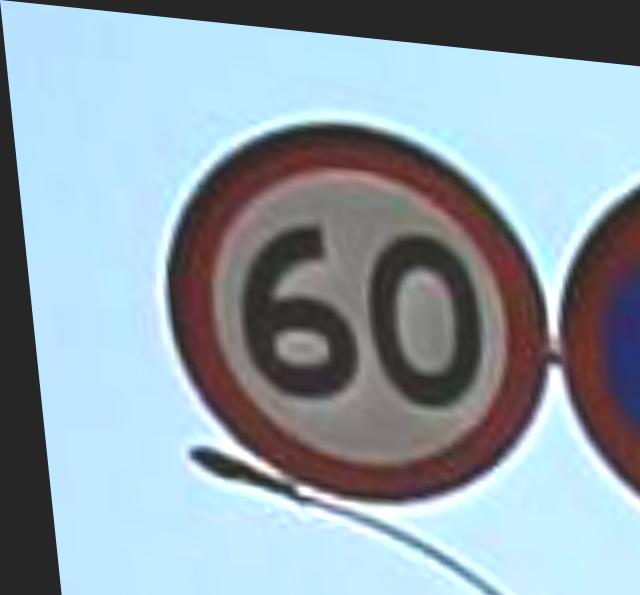limit60: (84, 54, 579, 517)
